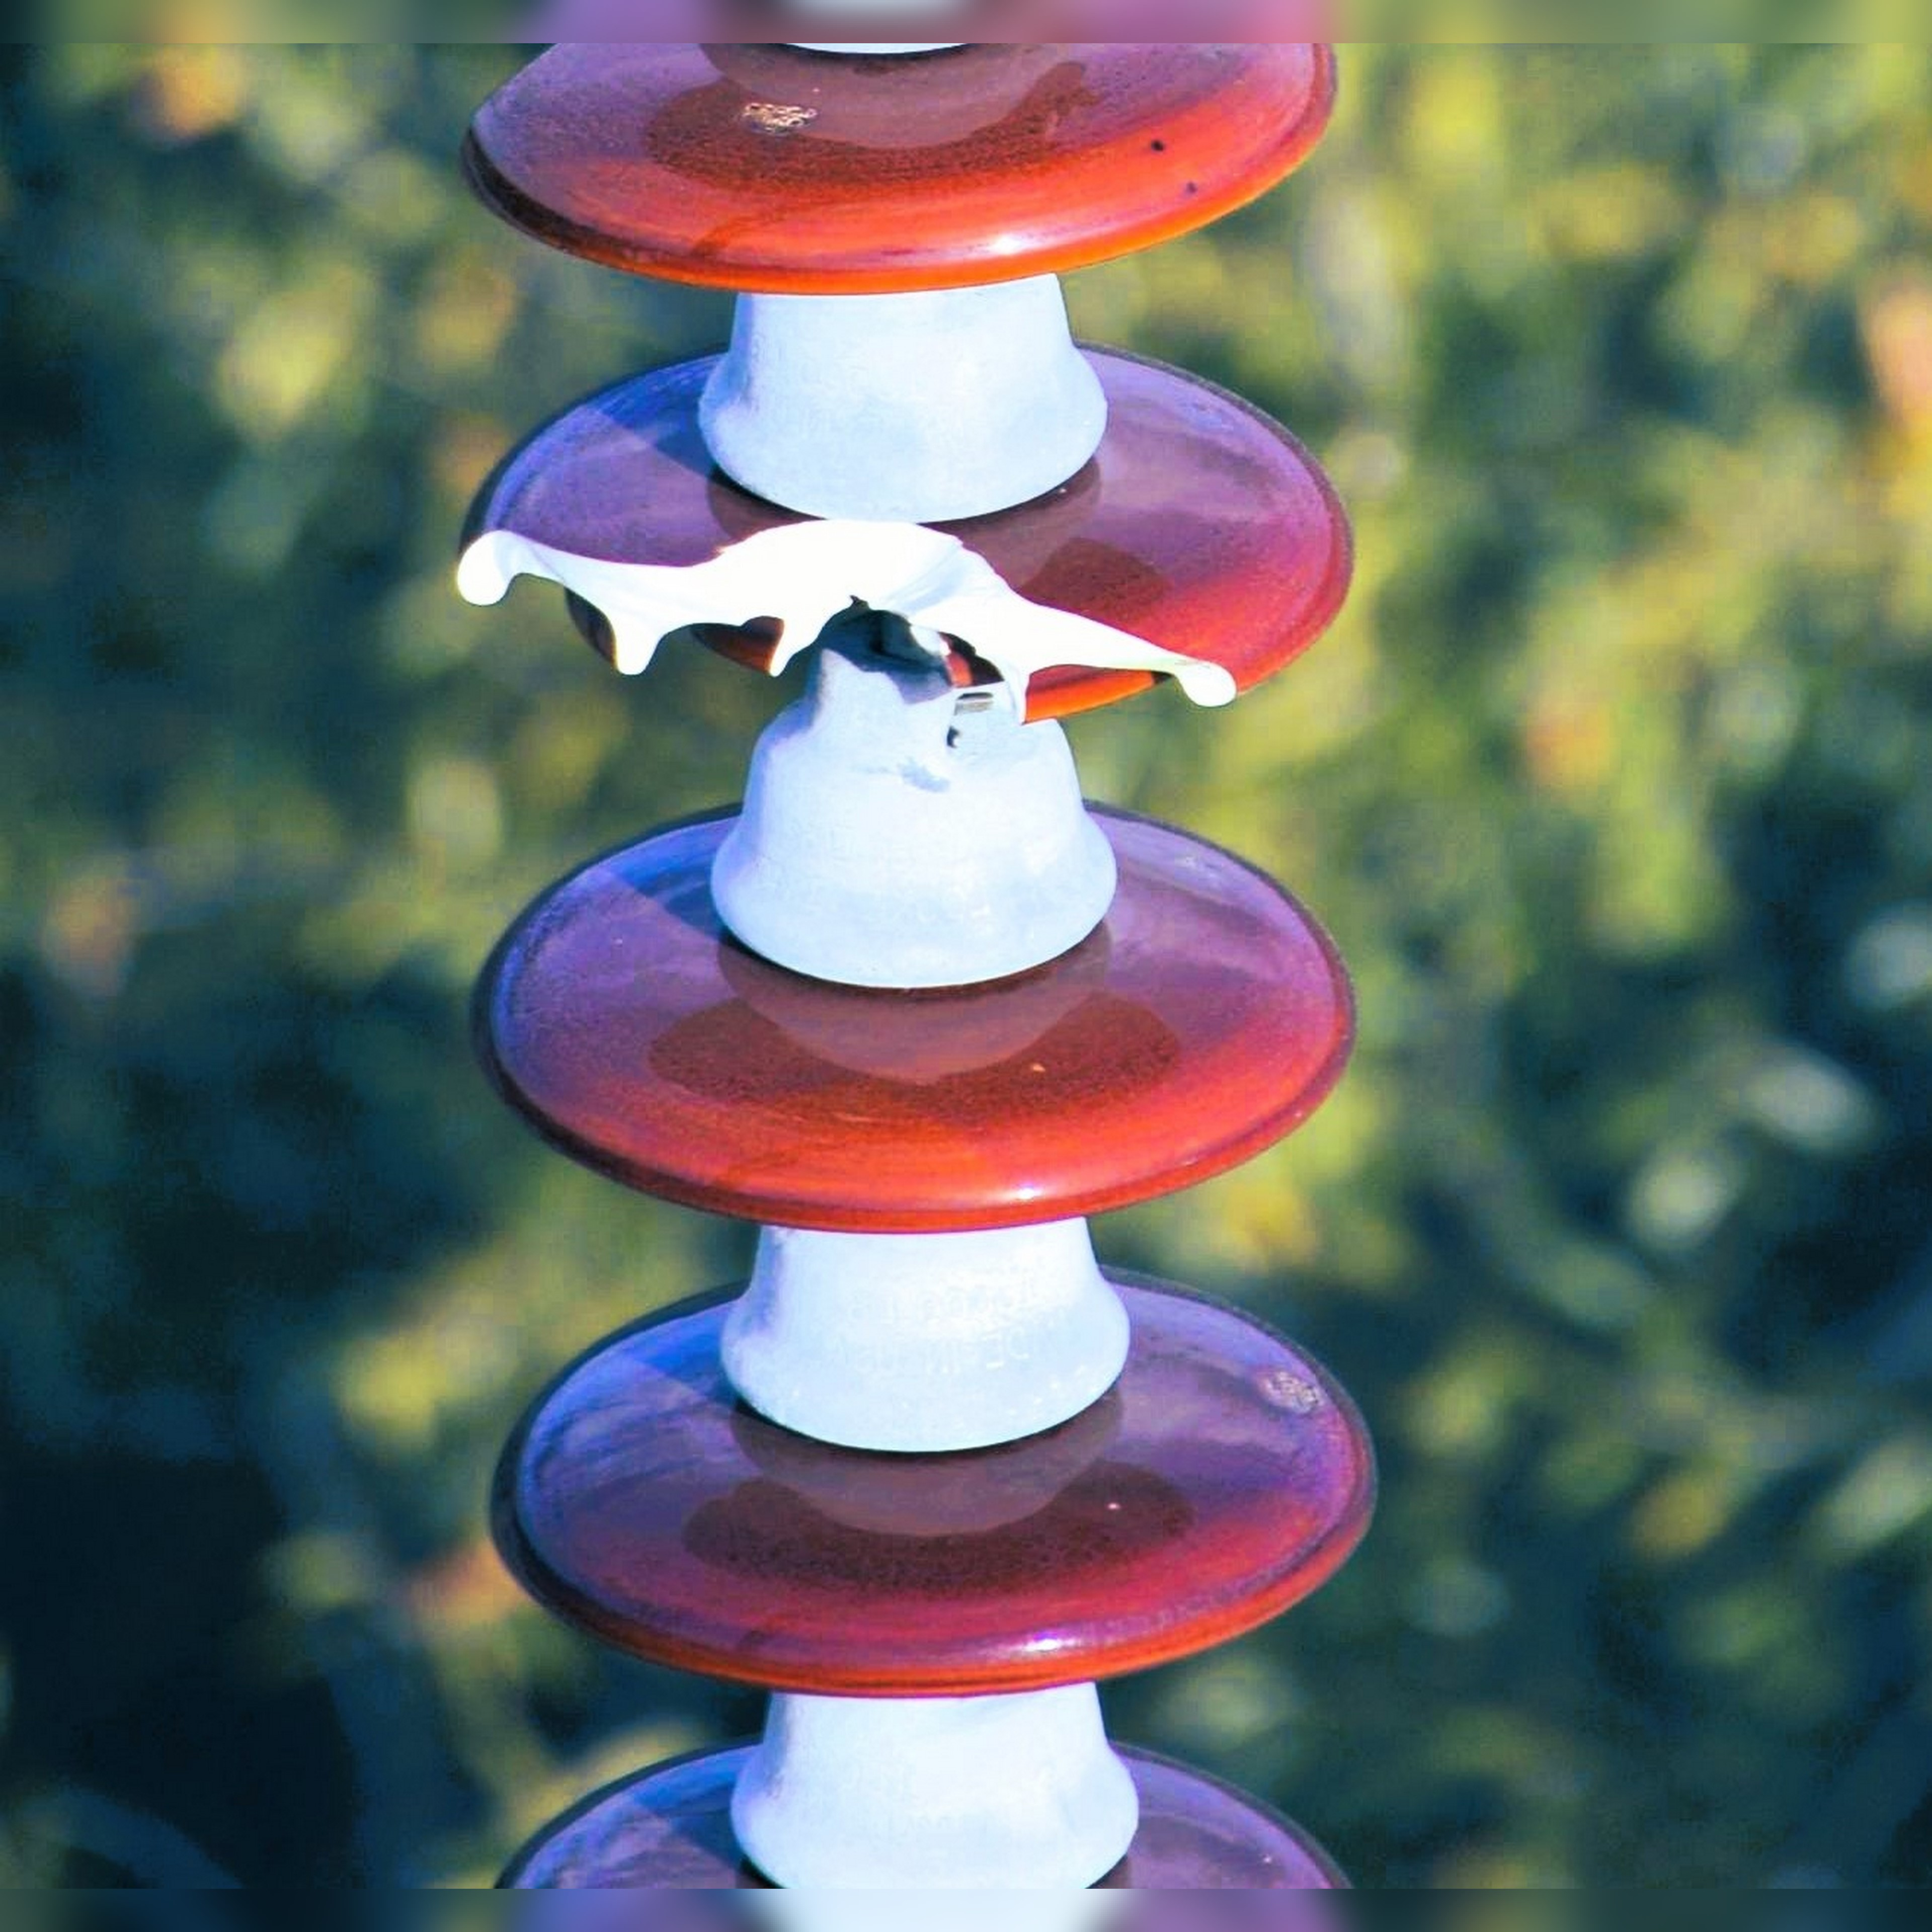insulator breakage: (432, 324, 1378, 722)
